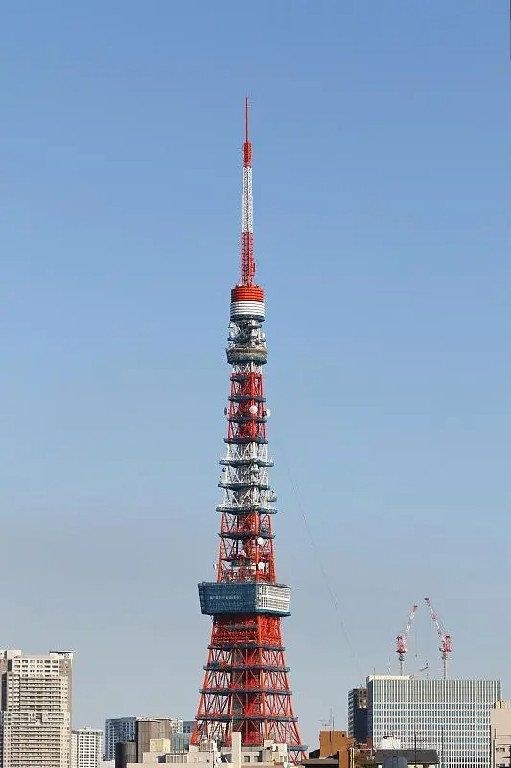Tokyo: (189, 92, 300, 750)
